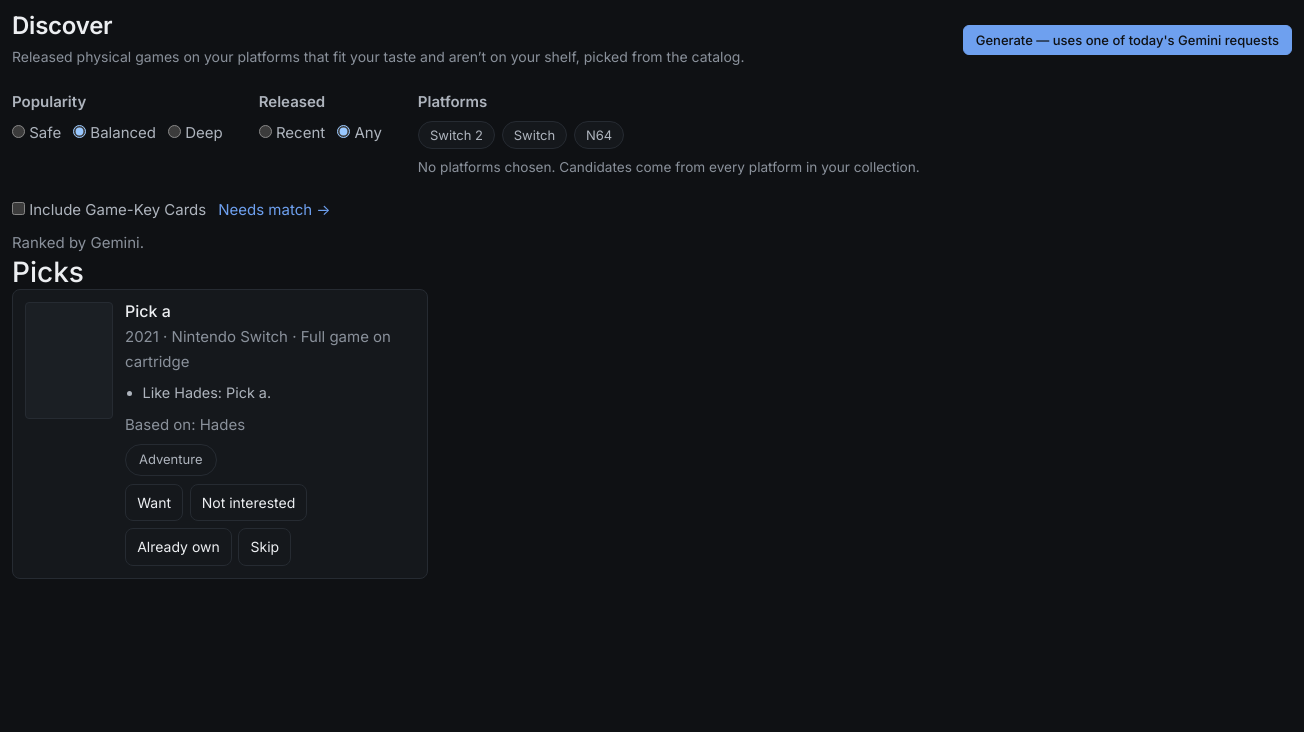
Scenario: AdminDiscover › says nothing is left once every pick is answered
The width and height of the screenshot is (1304, 732).
Click the button with aria-label "Skip Pick a" at (265, 547), box top-left (238, 528), bottom-right (291, 566)
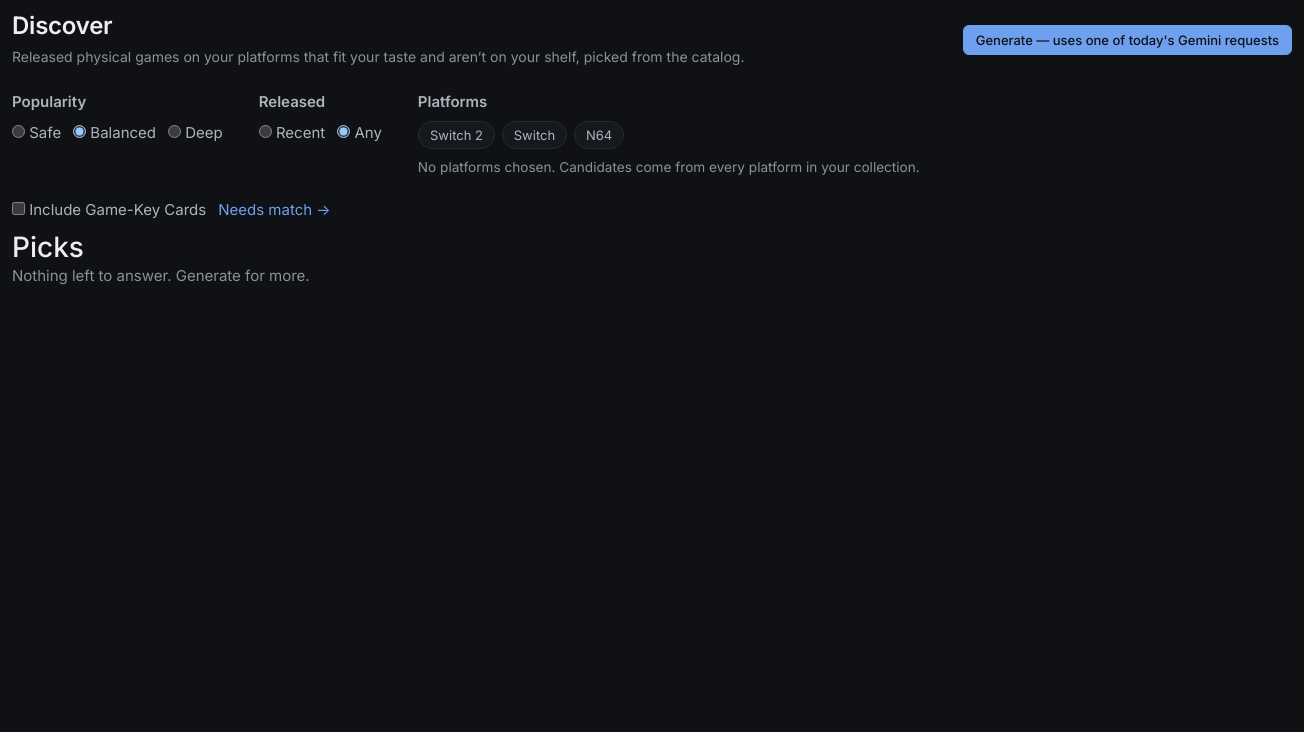
Result: the text "Nothing left to answer. Generate for more." is shown at top-left (12, 266), bottom-right (310, 285)
